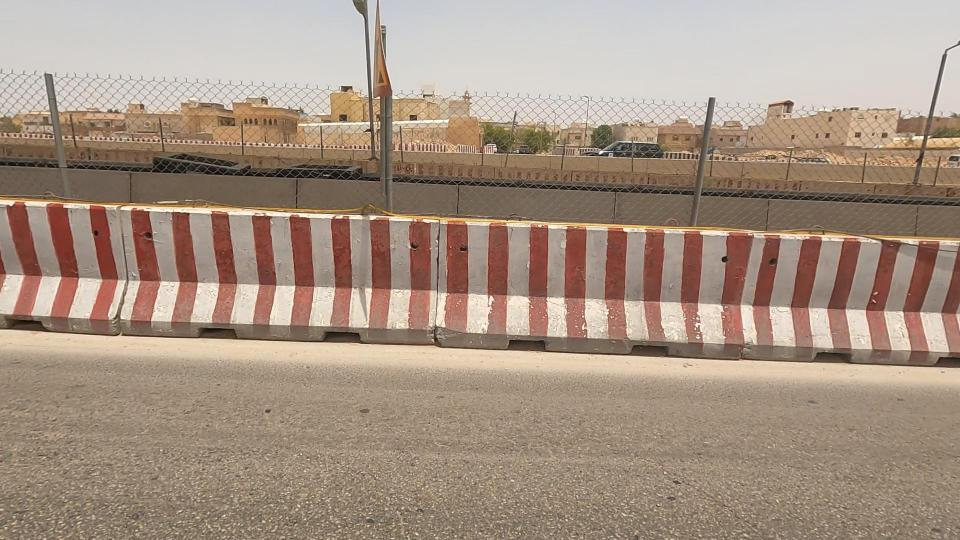CONSTRUCTION_ROAD: (264, 71, 872, 416), (0, 17, 384, 409), (698, 78, 960, 445)
